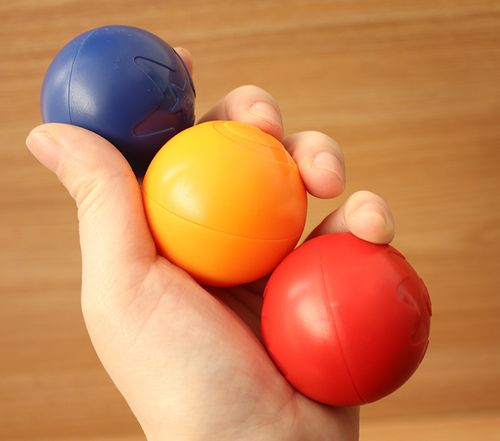no-phone: (20, 18, 437, 434)
